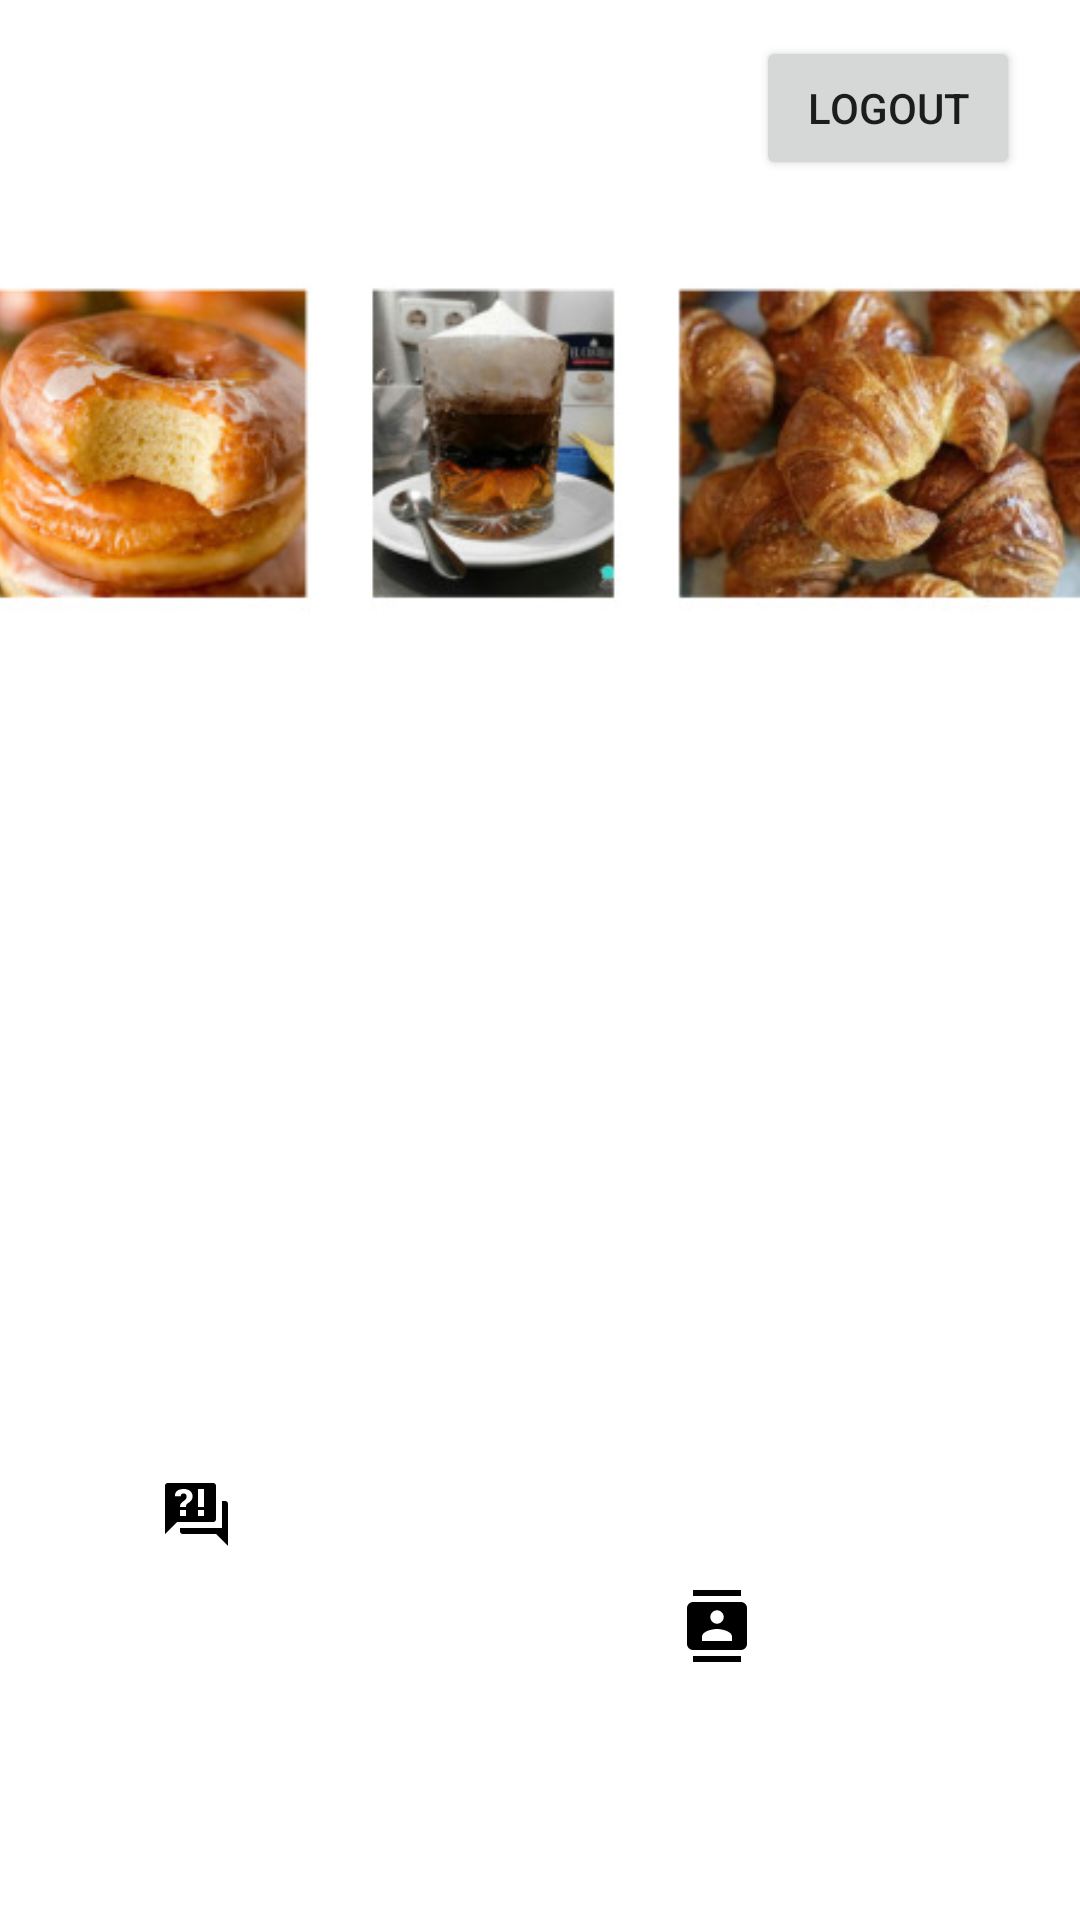

Named icons in this screenshot (1080px x 1920px) and their bounding boxes, (left=x1, top=y1, right=x2, bottom=y2):
contacts: (left=687, top=1590, right=747, bottom=1662)
faq: (left=165, top=1483, right=228, bottom=1546)
